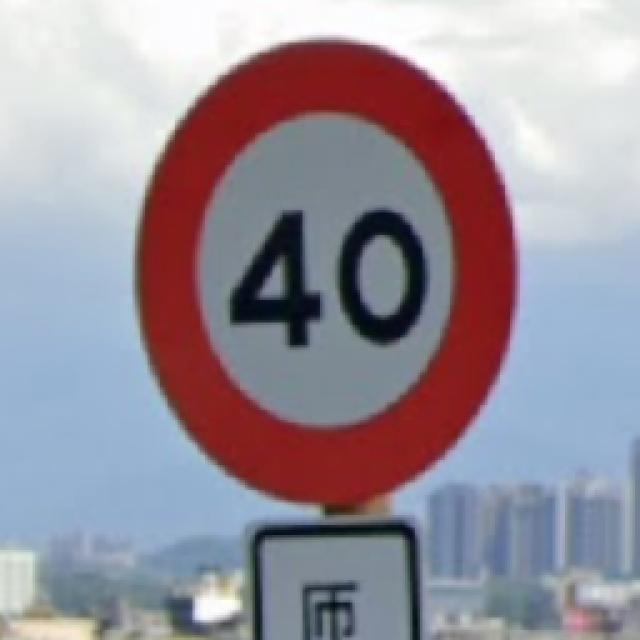Speed Limit -40-: (140, 40, 515, 502)
